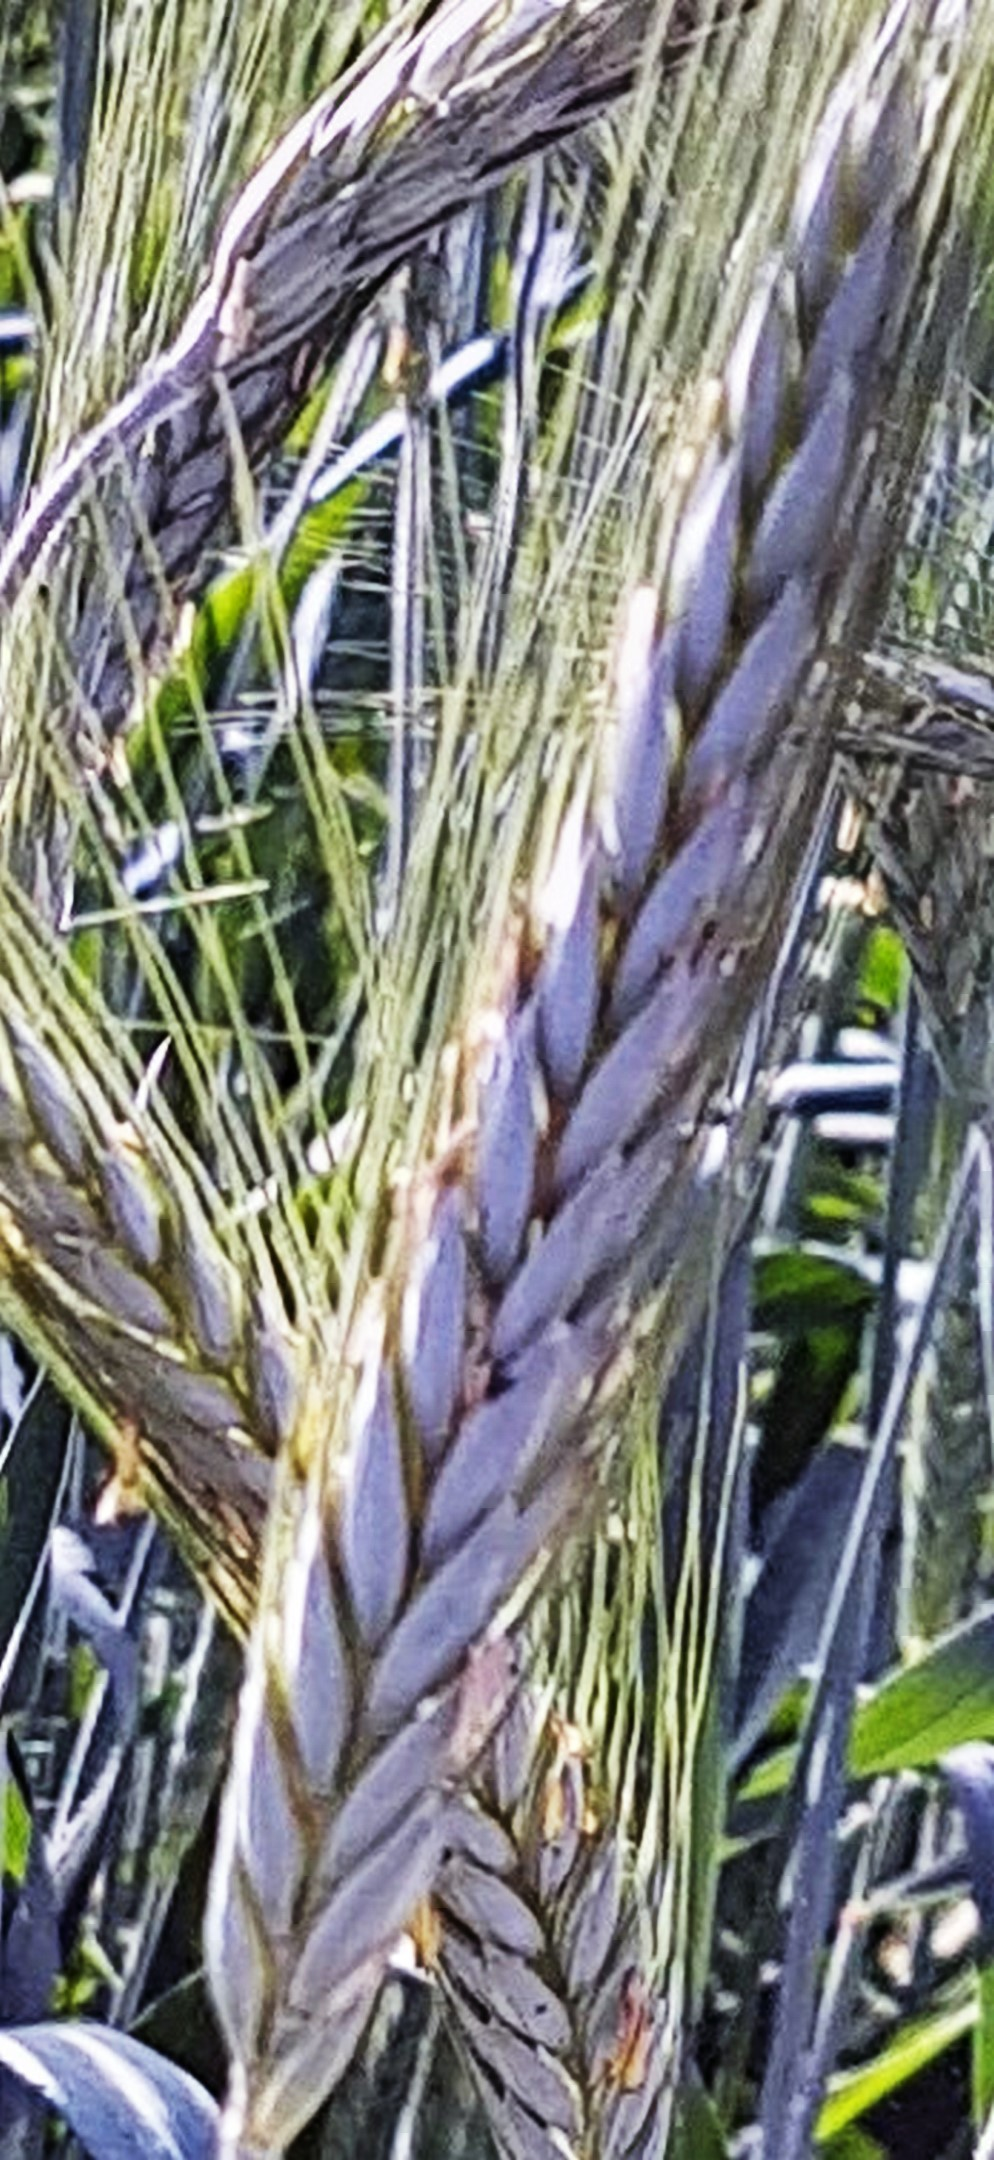Healthy Wheat: (240, 247, 994, 2101)
